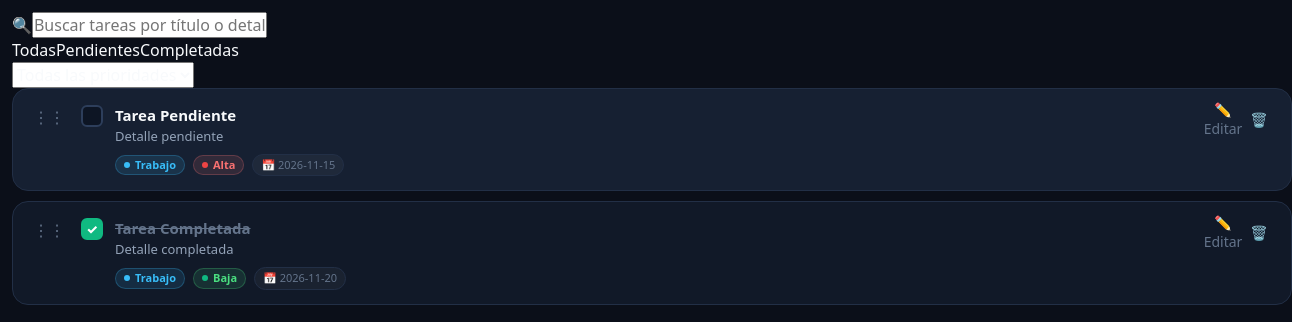
Test: <TodoList /> (Component Tests) › debe filtrar mostrando únicamente las tareas completadas cuando se selecciona el filtro
Click the button "Completadas" at [189, 50], box [140, 39, 239, 61]
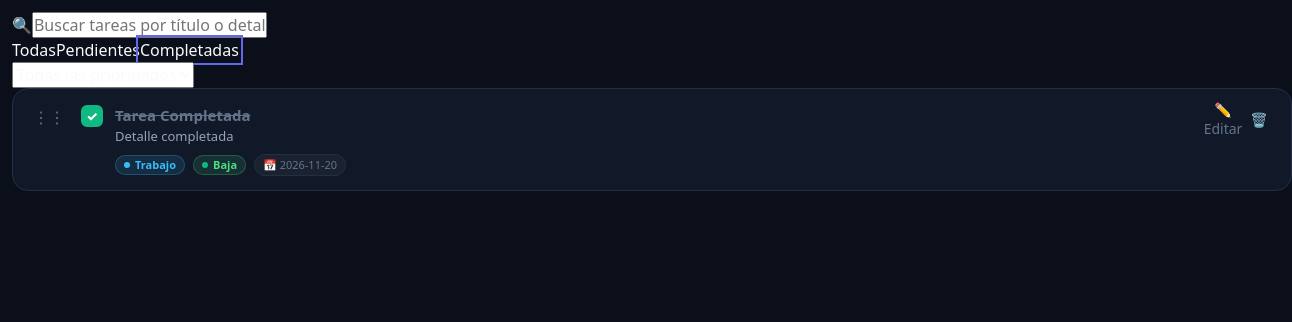
Expected: the checkbox "Tarea Completada" is shown, [115, 105, 250, 125]
Result: the checkbox "Tarea Pendiente" is gone
